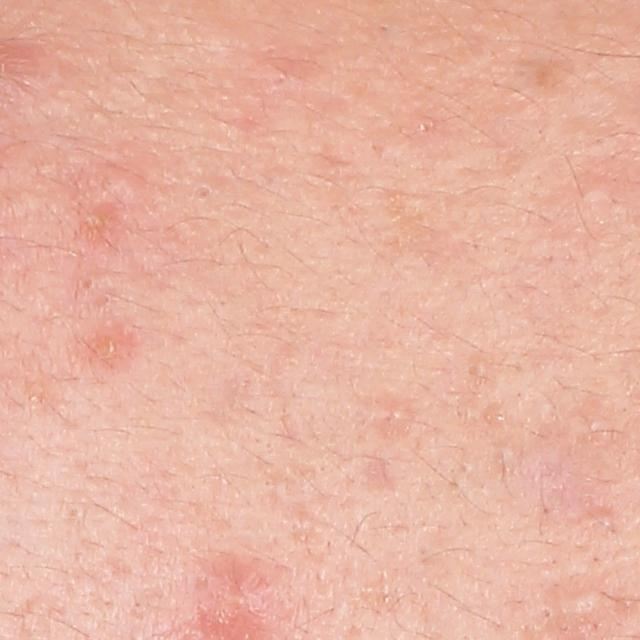comedo: (95, 163, 143, 206), (562, 584, 605, 627), (580, 183, 615, 208), (381, 407, 409, 425), (535, 604, 557, 625), (418, 121, 433, 135)
